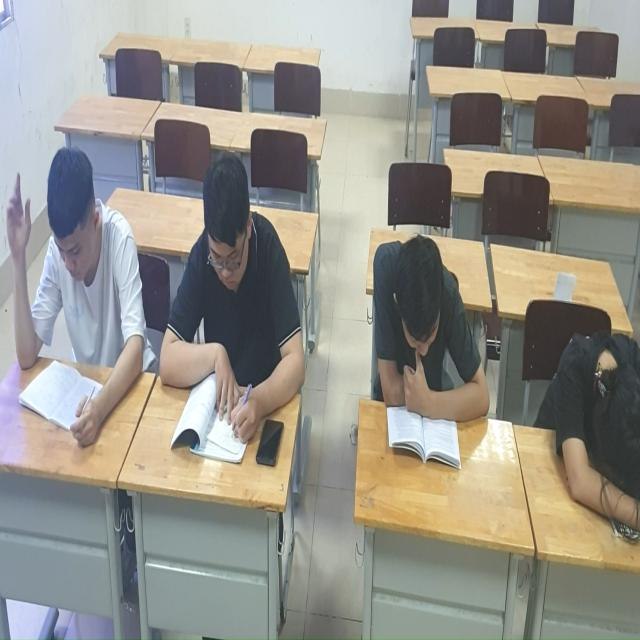raise_hand: (3, 112, 144, 451)
read: (151, 140, 314, 477), (369, 202, 475, 470)
sleep: (541, 295, 640, 524)
